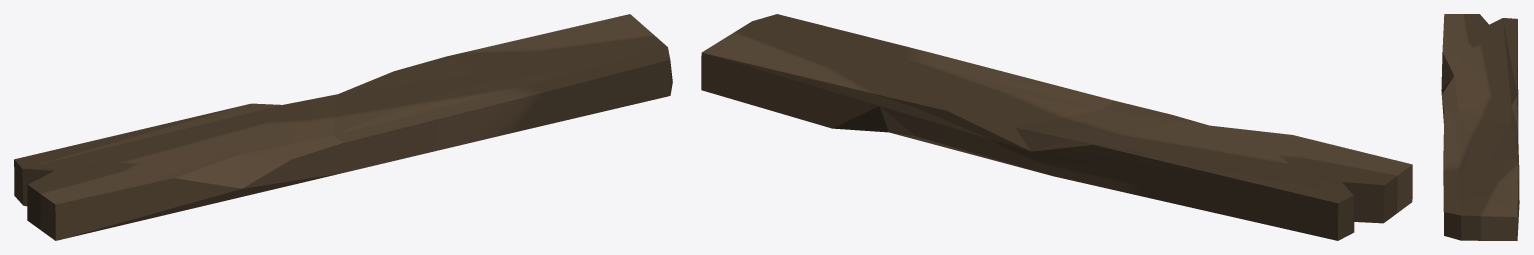
The model's file is SM_Gen_Prop_Plank_01.obj.
The picture shows the model from 3 angles, left to right: view 1: azimuth 30°, elevation 25°; view 2: azimuth 150°, elevation 25°; view 3: azimuth 270°, elevation 25°; orthographic projection. The views are drawn at different scales.
Parts seen in each view (by area): view 1: SM_Gen_Prop_Plank_01_0; view 2: SM_Gen_Prop_Plank_01_0; view 3: SM_Gen_Prop_Plank_01_0.
Boxes of the visible parts, x1=… form: SM_Gen_Prop_Plank_01_0: x1=14, y1=14, x2=672, y2=240; SM_Gen_Prop_Plank_01_0: x1=701, y1=14, x2=1412, y2=240; SM_Gen_Prop_Plank_01_0: x1=1441, y1=14, x2=1519, y2=240.
Bounding box in the file's own units: 1.7 × 0.1181 × 0.2797.
Materials: 1 (1 with a texture image).
